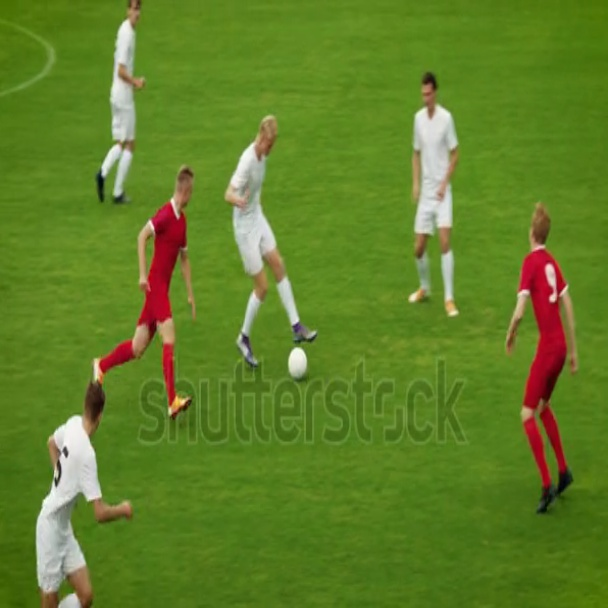ball: (282, 342, 312, 388)
